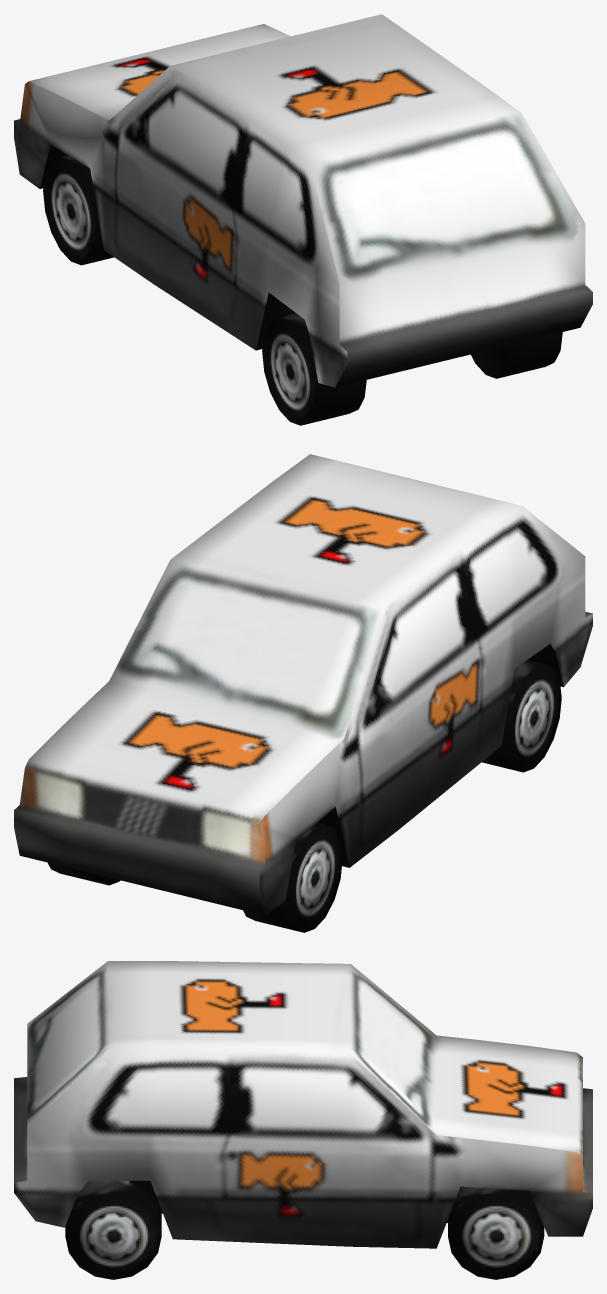
The model's file is fiatPanda.glb.
3 views of the same model, one above another, from view 1: azimuth 30°, elevation 25°; view 2: azimuth 150°, elevation 25°; view 3: azimuth 270°, elevation 25° (orthographic). The views are drawn at different scales.
Parts seen in each view (by area): view 1: CarBody, Tire.003, Tire.002, Tire.001; view 2: CarBody, Tire.003, Tire.002; view 3: CarBody, Tire.001, Tire.
Part boxes in pixels (left/top/right/bottom): CarBody: left=14, top=14, right=592, bottom=387; Tire.003: left=262, top=313, right=366, bottom=425; Tire.002: left=43, top=155, right=113, bottom=265; Tire.001: left=470, top=332, right=562, bottom=378; CarBody: left=14, top=454, right=592, bottom=915; Tire.003: left=482, top=659, right=561, bottom=772; Tire.002: left=243, top=822, right=342, bottom=932; CarBody: left=14, top=961, right=592, bottom=1248; Tire.001: left=65, top=1180, right=161, bottom=1279; Tire: left=448, top=1186, right=544, bottom=1279.
Size of the model in its own units: 1.44 by 1.43 by 3.38.
Materials: 4 (4 with a texture image).
